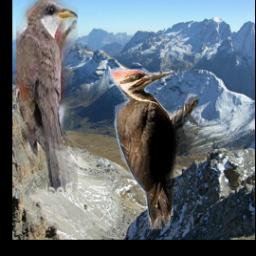Cuckoo: (17, 0, 79, 192)
Woodpecker: (111, 69, 199, 229)
